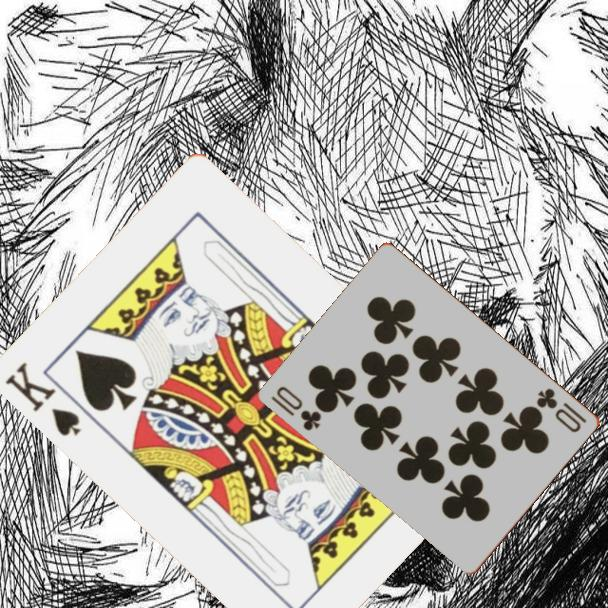c10: (533, 384, 590, 436), (268, 382, 325, 434)
s13: (2, 358, 85, 439)
